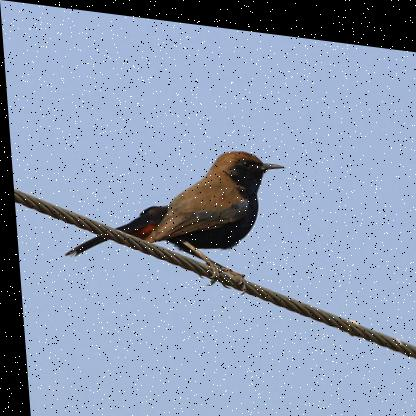Burung: (53, 127, 290, 293)
